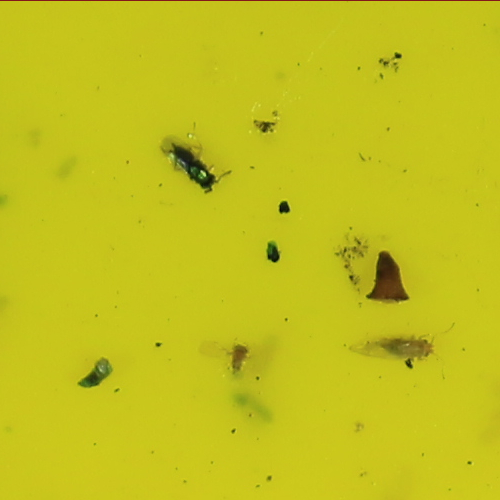Glycaspis: (377, 331, 434, 363)
Psyllaephagus: (171, 141, 215, 189)
